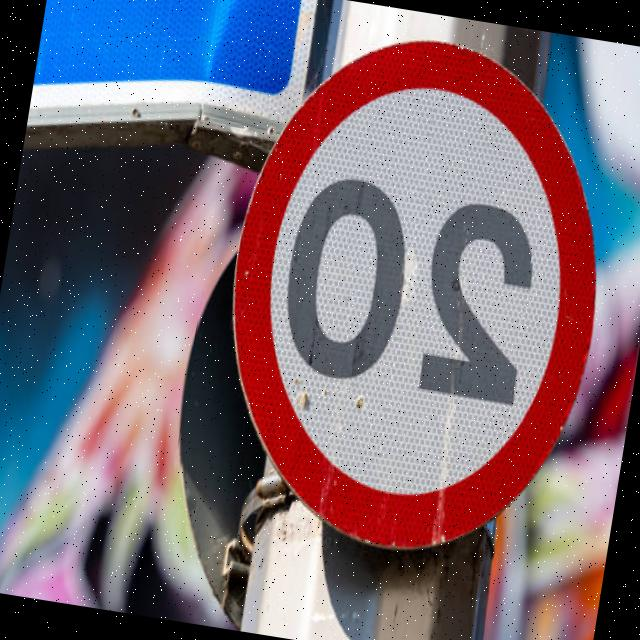speed_limit_20: (191, 7, 640, 580)
